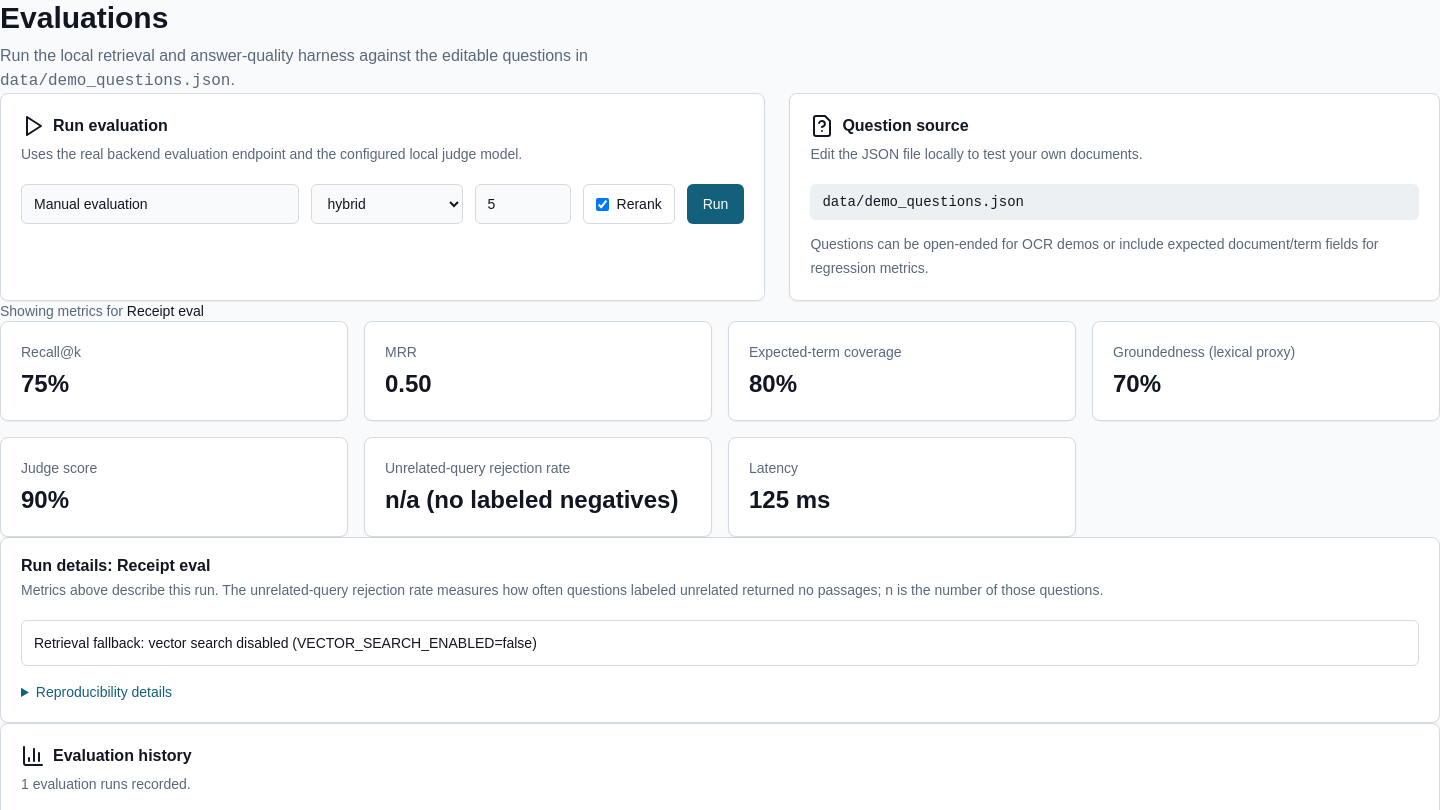
Test: release status visibility › shows n/a and missing provenance for legacy runs
Expected: the heading "n/a (no labeled negatives)" is shown, 385,484 -> 691,516
Click the heading "Reproducibility details": click(104, 692) 36,684 -> 172,700
(page scrolled)
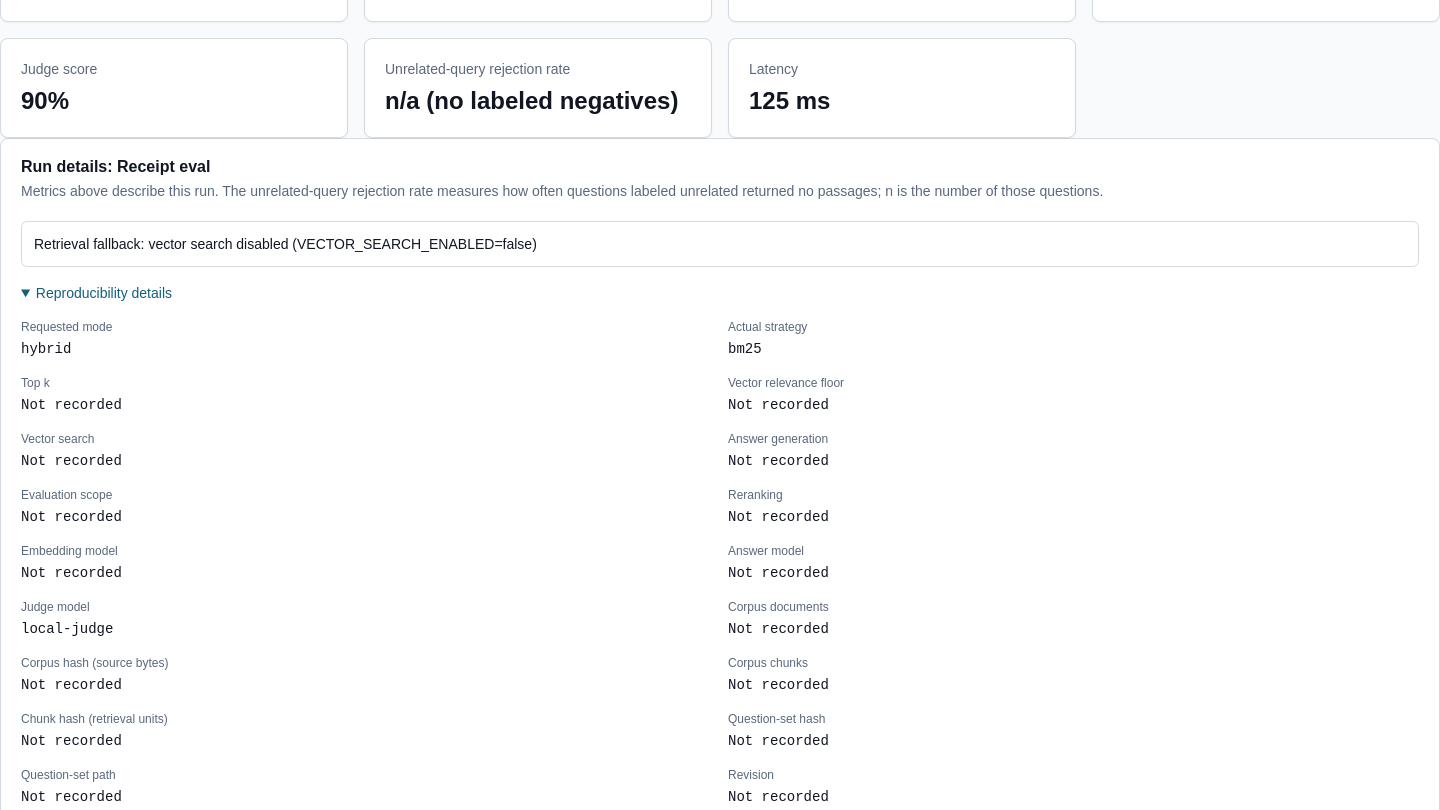
Now the text "Not recorded" below "Top k" is shown, box 21,397 -> 122,413
